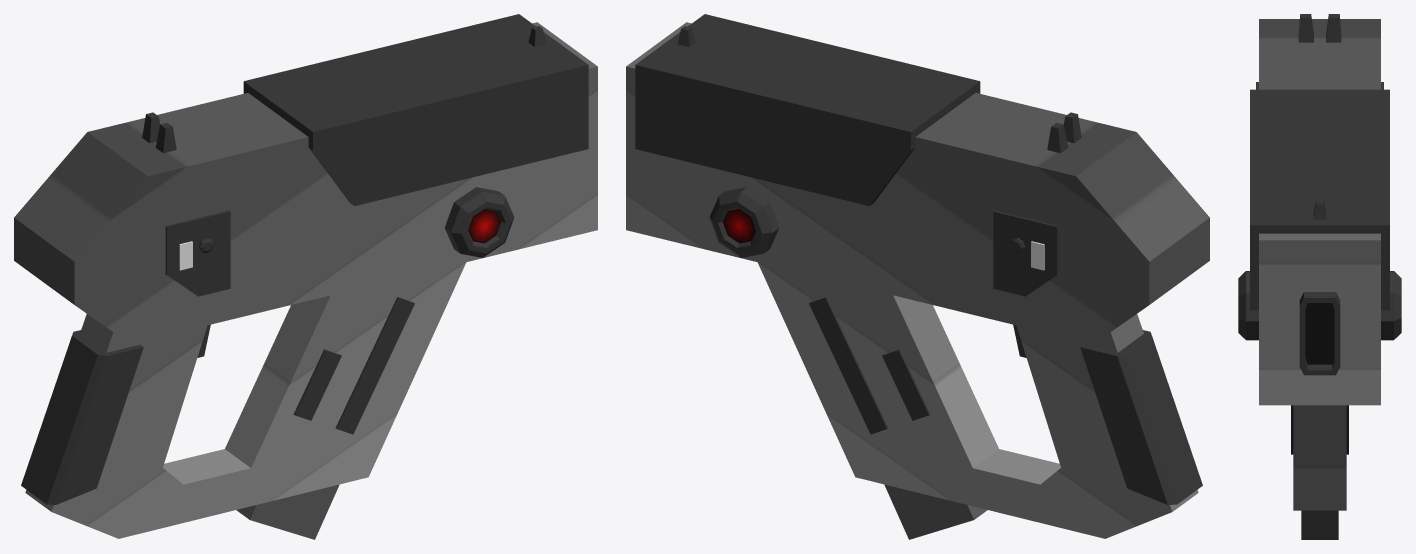
The model's file is Handgun_A_V2.FBX.
3 views of the same model, side by side, from view 1: azimuth 30°, elevation 25°; view 2: azimuth 150°, elevation 25°; view 3: azimuth 270°, elevation 25° (orthographic).
Parts seen in each view (by area): view 1: Handgun_A_V2, Magazine; view 2: Handgun_A_V2, Magazine; view 3: Handgun_A_V2, Magazine.
Part boxes in pixels (bbox=[...]): Handgun_A_V2: bbox=[14, 14, 597, 538]; Magazine: bbox=[236, 484, 339, 539]; Handgun_A_V2: bbox=[626, 14, 1209, 538]; Magazine: bbox=[884, 484, 987, 539]; Handgun_A_V2: bbox=[1238, 14, 1401, 510]; Magazine: bbox=[1301, 510, 1338, 539].
Size of the model in its own units: 130 by 102 by 33.33.
